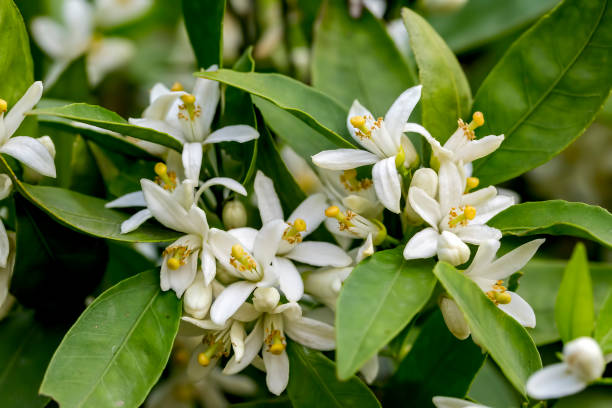flower: (308, 89, 423, 210), (143, 74, 255, 190), (226, 295, 342, 398), (121, 189, 228, 298), (455, 225, 563, 328), (241, 175, 352, 273), (402, 178, 524, 263), (403, 102, 503, 189), (208, 228, 294, 322)
